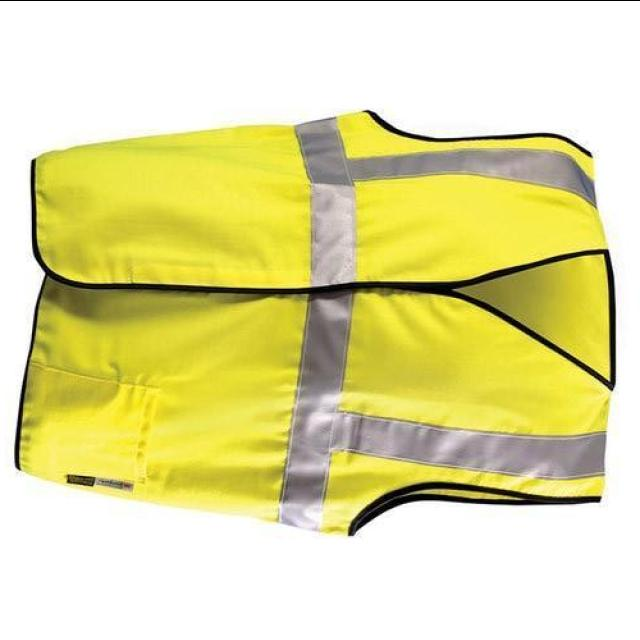jacket: (10, 105, 640, 557)
